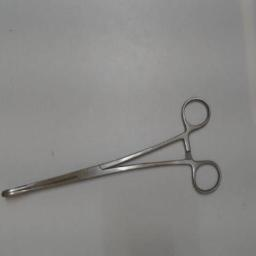Sponge Forceps: (2, 88, 226, 202)
